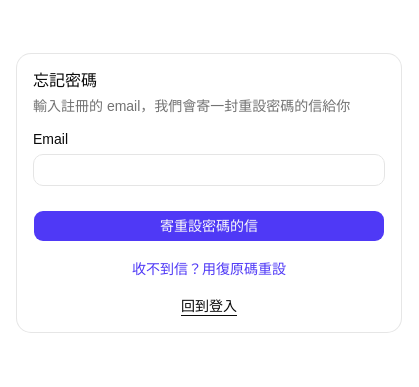
it: ForgotPasswordPage › says why it can't, such as no mail set up on this installation
Type "a@example.com" into the field labelled "Email" at (209, 170), box [33, 154, 385, 186]
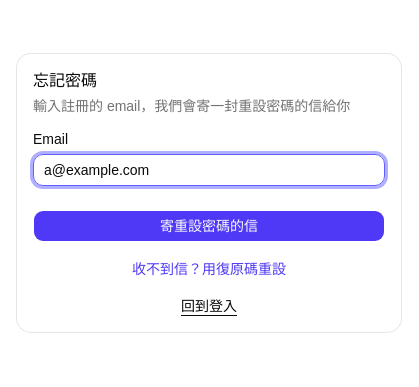
Click the button "寄重設密碼的信" at (209, 226), box [33, 210, 385, 242]
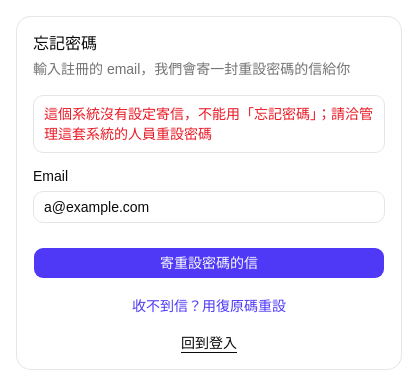
Expected: the text "這個系統沒有設定寄信，不能用「忘記密碼」；請洽管理這套系統的人員重設密碼" is shown, [44, 104, 374, 144]
